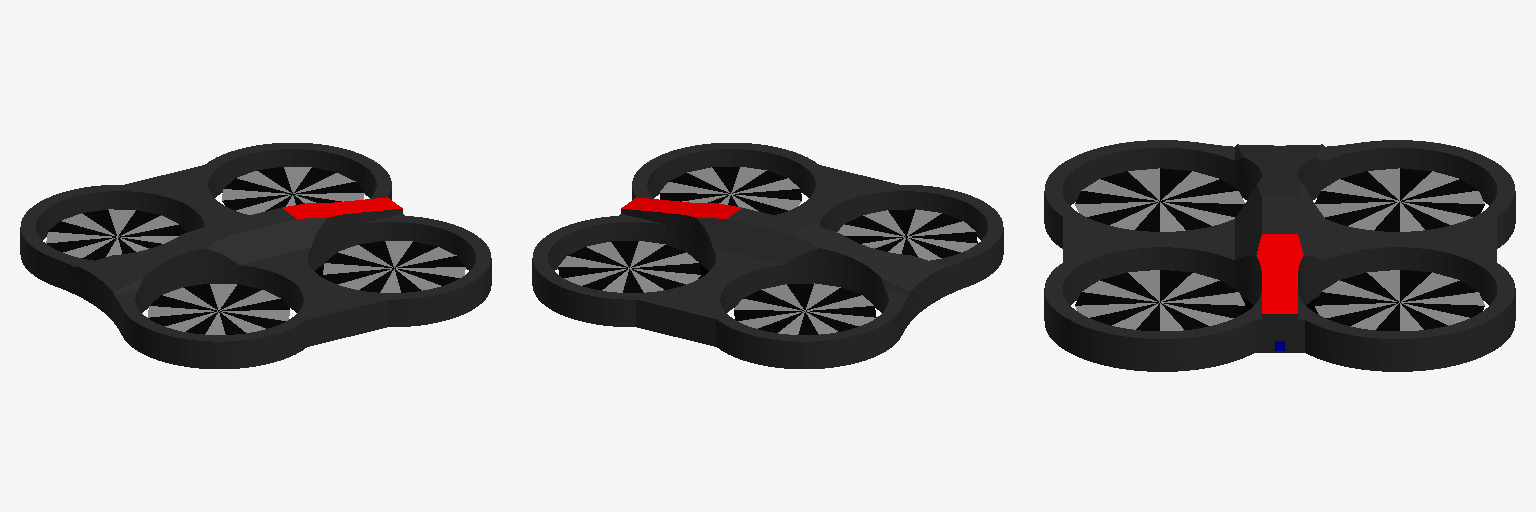
The robot description file, URDF, robot "quadrotor_full":
<?xml version="1.0" ?>
<!-- =================================================================================== -->
<!-- |    This document was autogenerated by xacro from quadrotor.urdf.xacro           | -->
<!-- |    EDITING THIS FILE BY HAND IS NOT RECOMMENDED                                 | -->
<!-- =================================================================================== -->
<robot name="quadrotor_full" xmlns:xacro="http://wiki.ros.org/xacro">
  <!--
  <xacro:include filename="$(find imav_2017)/plugins/urdf/quadrotor_plugins.urdf.xacro" />
  -->
  <!--
  <xacro:property name="pi" value="3.1415926535897931" />
-->
  <link name="base_link">
    <inertial>
      <origin rpy="0 0 0" xyz="0 0 0"/>
      <mass value="1.477"/>
      <origin xyz="0 0 0"/>
      <inertia ixx="0.01152" ixy="0.0" ixz="0.0" iyy="0.01152" iyz="0.0" izz="0.0218"/>
    </inertial>
    <visual>
      <origin rpy="0 0 0" xyz="0 0 0"/>
      <geometry>
        <mesh filename="package://imav_2017/meshes/quadrotor/quadrotor_4.dae"/>
      </geometry>
    </visual>
    <collision>
      <origin rpy="0 0 0" xyz="0 0 0"/>
      <geometry>
        <mesh filename="package://imav_2017/meshes/quadrotor/quadrotor_4.stl"/>
      </geometry>
    </collision>
  </link>
  <!--
    <quadrotor_plugins/>
    -->
  <gazebo>
    <plugin filename="libhector_gazebo_ros_imu.so" name="quadrotor_imu_sim">
      <alwaysOn>true</alwaysOn>
      <updateRate>100.0</updateRate>
      <bodyName>base_link</bodyName>
      <frameId>ardrone_base_link</frameId>
      <topicName>/quadrotor_3/imu</topicName>
      <rpyOffsets>0 0 0</rpyOffsets>
      <!-- deprecated -->
      <gaussianNoise>0</gaussianNoise>
      <!-- deprecated -->
      <accelDrift>0.5 0.5 0.5</accelDrift>
      <accelGaussianNoise>0.35 0.35 0.3</accelGaussianNoise>
      <rateDrift>0.0 0.0 0.0</rateDrift>
      <rateGaussianNoise>0.00 0.00 0.00</rateGaussianNoise>
      <headingDrift>0.0</headingDrift>
      <headingGaussianNoise>0.00</headingGaussianNoise>
    </plugin>
    <plugin filename="libhector_gazebo_ros_baro.so" name="quadrotor_baro_sim">
      <alwaysOn>true</alwaysOn>
      <updateRate>10.0</updateRate>
      <bodyName>base_link</bodyName>
      <topicName>/quadrotor_3/pressure_height</topicName>
      <altimeterTopicName>altimeter</altimeterTopicName>
      <offset>0</offset>
      <drift>0.1</drift>
      <gaussianNoise>0.5</gaussianNoise>
    </plugin>
    <plugin filename="libhector_gazebo_ros_magnetic.so" name="quadrotor_magnetic_sim">
      <alwaysOn>true</alwaysOn>
      <updateRate>10.0</updateRate>
      <bodyName>base_link</bodyName>
      <topicName>/quadrotor_3/magnetic</topicName>
      <offset>0 0 0</offset>
      <drift>0.0 0.0 0.0</drift>
      <gaussianNoise>1.3e-2 1.3e-2 1.3e-2</gaussianNoise>
    </plugin>
    <plugin filename="libhector_gazebo_ros_gps.so" name="quadrotor_gps_sim">
      <alwaysOn>true</alwaysOn>
      <updateRate>4.0</updateRate>
      <bodyName>base_link</bodyName>
      <topicName>/quadrotor_3/fix</topicName>
      <velocityTopicName>/quadrotor_3/fix_velocity</velocityTopicName>
      <drift>5.0 5.0 5.0</drift>
      <gaussianNoise>0.1 0.1 0.1</gaussianNoise>
      <velocityDrift>0 0 0</velocityDrift>
      <velocityGaussianNoise>0.1 0.1 0.1</velocityGaussianNoise>
    </plugin>
    <plugin filename="libgazebo_ros_p3d.so" name="quadrotor_groundtruth_sim">
      <alwaysOn>true</alwaysOn>
      <updateRate>100.0</updateRate>
      <bodyName>base_link</bodyName>
      <topicName>/quadrotor_3/ground_truth/state</topicName>
      <gaussianNoise>0.0</gaussianNoise>
      <frameName>map</frameName>
    </plugin>
  </gazebo>
  <!-- Quadrotor Simple Controller Plugin -->
  <gazebo>
    <!--
      <plugin name="quadrotor_simple_controller" filename="libquadrotor_simple_controller.so">
      -->
    <plugin filename="libgazebo_quadrotor_simple_controller.so" name="quadrotor_simple_controller">
      <alwaysOn>true</alwaysOn>
      <updateRate>0.0</updateRate>
      <bodyName>base_link</bodyName>
      <!--<stateTopic>ground_truth/state</stateTopic>-->
      <!--<imuTopic>ardrone/imu</imuTopic>-->
      <topicName>/cmd_vel</topicName>
      <rollpitchProportionalGain>10.0</rollpitchProportionalGain>
      <rollpitchDifferentialGain>5.0</rollpitchDifferentialGain>
      <rollpitchLimit>0.5</rollpitchLimit>
      <yawProportionalGain>2.0</yawProportionalGain>
      <yawDifferentialGain>1.0</yawDifferentialGain>
      <yawLimit>1.5</yawLimit>
      <velocityXYProportionalGain>5.0</velocityXYProportionalGain>
      <velocityXYDifferentialGain>1.0</velocityXYDifferentialGain>
      <velocityXYLimit>10</velocityXYLimit>
      <velocityZProportionalGain>5.0</velocityZProportionalGain>
      <velocityZDifferentialGain>1.0</velocityZDifferentialGain>
      <velocityZLimit>2.5</velocityZLimit>
      <maxForce>30</maxForce>
      <motionSmallNoise>0.05</motionSmallNoise>
      <motionDriftNoise>0.03</motionDriftNoise>
      <motionDriftNoiseTime>5.0</motionDriftNoiseTime>
    </plugin>
  </gazebo>
  <!-- Sonar height sensor -->
  <joint name="sonar_joint" type="fixed">
    <origin rpy="0 1.57079632679 0" xyz="-0.15 0.0 0.0"/>
    <parent link="base_link"/>
    <child link="sonar_link"/>
  </joint>
  <link name="sonar_link">
    <inertial>
      <mass value="0.001"/>
      <origin rpy="0 0 0" xyz="0 0 0"/>
      <inertia ixx="0.000000017" ixy="0" ixz="0" iyy="0.000000017" iyz="0" izz="0.000000017"/>
    </inertial>
    <visual>
      <origin rpy="0 0 0" xyz="0 0 0"/>
      <geometry>
        <!--<box size="0.01 0.01 0.01" /> -->
        <mesh filename="package://imav_2017/meshes/sonar_sensor/max_sonar_ez4.dae"/>
      </geometry>
    </visual>
    <collision>
      <origin rpy="0 0 0" xyz="0 0 0"/>
      <geometry>
        <box size="0.01 0.01 0.01"/>
      </geometry>
    </collision>
  </link>
  <gazebo reference="sonar_link">
    <sensor name="sonar" type="ray">
      <update_rate>10</update_rate>
      <ray>
        <range>
          <min>0.01</min>
          <max>3.0</max>
          <resolution>0.01</resolution>
        </range>
        <scan>
          <horizontal>
            <samples>3</samples>
            <min_angle>-0.349065850399</min_angle>
            <max_angle>0.349065850399</max_angle>
          </horizontal>
          <vertical>
            <samples>3</samples>
            <min_angle>-0.349065850399</min_angle>
            <max_angle>0.349065850399</max_angle>
          </vertical>
        </scan>
      </ray>
      <plugin filename="libhector_gazebo_ros_sonar.so" name="gazebo_ros_sonar_controller">
        <gaussianNoise>0.000</gaussianNoise>
        <topicName>/quadrotor_3/sonar_height</topicName>
        <frameId>sonar_link</frameId>
      </plugin>
    </sensor>
  </gazebo>
  <joint name="laser0_joint" type="fixed">
    <origin rpy="3.14159265359 0 0" xyz="0.0 0.0 0.08"/>
    <parent link="base_link"/>
    <child link="laser0_frame"/>
  </joint>
  <link name="laser0_frame">
    <inertial>
      <mass value="0.001"/>
      <origin rpy="0 0 0" xyz="0 0 0"/>
      <inertia ixx="0.0001" ixy="0" ixz="0" iyy="0.0001" iyz="0" izz="0.0001"/>
    </inertial>
    <visual>
      <origin rpy="0 0 0" xyz="0 0 0"/>
      <geometry>
        <mesh filename="package://imav_2017/meshes/hokuyo_utm30lx/hokuyo_utm_30lx.dae"/>
      </geometry>
    </visual>
    <collision>
      <origin rpy="0 0 0" xyz="0 0 -0.0115"/>
      <geometry>
        <box size="0.058 0.058 0.087"/>
        <mesh filename="package://hector_sensors_description/meshes/hokuyo_utm30lx/hokuyo_utm_30lx.stl"/>
      </geometry>
    </collision>
  </link>
  <gazebo reference="laser0_frame">
    <sensor name="laser0" type="ray">
      <always_on>true</always_on>
      <update_rate>40</update_rate>
      <pose>0 0 0 0 0 0</pose>
      <visualize>false</visualize>
      <ray>
        <scan>
          <horizontal>
            <samples>1081</samples>
            <resolution>1</resolution>
            <min_angle>2.35619449019</min_angle>
            <max_angle>-2.35619449019</max_angle>
          </horizontal>
        </scan>
        <range>
          <min>0.08</min>
          <max>30.0</max>
          <resolution>0.01</resolution>
        </range>
      </ray>
      <plugin filename="libgazebo_ros_laser.so" name="gazebo_ros_laser0_controller">
        <gaussianNoise>0.005</gaussianNoise>
        <alwaysOn>true</alwaysOn>
        <updateRate>40</updateRate>
        <topicName>/quadrotor_3/scan</topicName>
        <frameName>laser0_frame</frameName>
      </plugin>
    </sensor>
  </gazebo>
  <!-- The following two cameras should be united to one! -->
  <!-- Forward facing camera -->
  <joint name="front_joint" type="fixed">
    <origin rpy="0 0 0" xyz="0.21 0.0 0.01"/>
    <parent link="base_link"/>
    <child link="front_link"/>
  </joint>
  <link name="front_link">
    <inertial>
      <mass value="0.001"/>
      <origin rpy="0 0 0" xyz="0 0 0"/>
      <inertia ixx="0.0001" ixy="0" ixz="0" iyy="0.0001" iyz="0" izz="0.0001"/>
    </inertial>
    <visual>
      <origin rpy="0 0 0" xyz="0 0 0"/>
      <geometry>
        <box size="0.01 0.01 0.01"/>
      </geometry>
      <material name="Blue">
        <color rgba="0.0 0.0 0.8 1"/>
      </material>
    </visual>
    <collision>
      <origin rpy="0 0 0" xyz="0 0 0"/>
      <geometry>
        <box size="0.01 0.01 0.01"/>
      </geometry>
    </collision>
  </link>
  <joint name="front_optical_joint" type="fixed">
    <origin rpy="-1.57079632679 0.0 -1.57079632679" xyz="0 0 0"/>
    <parent link="front_link"/>
    <child link="ardrone_base_frontcam"/>
  </joint>
  <link name="ardrone_base_frontcam">
    <inertial>
      <mass value="0.01"/>
      <origin xyz="0 0 0"/>
      <inertia ixx="0.001" ixy="0.0" ixz="0.0" iyy="0.001" iyz="0.0" izz="0.001"/>
    </inertial>
    <visual>
      <origin rpy="0 0 0" xyz="0 0 0"/>
      <geometry>
        <box size="0.001 0.001 0.001"/>
      </geometry>
    </visual>
    <collision>
      <origin rpy="0 0 0" xyz="0 0 0"/>
      <geometry>
        <box size="0.001 0.001 0.001"/>
      </geometry>
    </collision>
  </link>
  <gazebo reference="front_link">
    <sensor name="front_camera_sensor" type="camera">
      <update_rate>60</update_rate>
      <camera name="head">
        <horizontal_fov>1.41371669412</horizontal_fov>
        <image>
          <width>640</width>
          <height>360</height>
          <format>R8G8B8</format>
        </image>
        <clip>
          0.01
	    
          <near>0.01</near>
          <far>100</far>
        </clip>
      </camera>
      <plugin filename="libgazebo_ros_camera.so" name="front_camera_controller">
        <cameraName>/quadrotor_3/front</cameraName>
        <alwaysOn>true</alwaysOn>
        <updateRate>60</updateRate>
        <imageTopicName>/quadrotor_3/front/image_raw</imageTopicName>
        <cameraInfoTopicName>/quadrotor_3/front/camera_info</cameraInfoTopicName>
        <frameName>ardrone_base_frontcam</frameName>
      </plugin>
    </sensor>
    <!--<turnGravityOff>true</turnGravityOff>-->
    <material>PR2/Blue</material>
  </gazebo>
  <!-- Downward facing camera -->
  <joint name="bottom_joint" type="fixed">
    <origin rpy="0 1.57079632679 0" xyz="0.15 0.0 0.0"/>
    <parent link="base_link"/>
    <child link="bottom_link"/>
  </joint>
  <link name="bottom_link">
    <inertial>
      <mass value="0.001"/>
      <origin rpy="0 0 0" xyz="0 0 0"/>
      <inertia ixx="0.0001" ixy="0" ixz="0" iyy="0.0001" iyz="0" izz="0.0001"/>
    </inertial>
    <visual>
      <origin rpy="0 0 0" xyz="0 0 0"/>
      <geometry>
        <box size="0.01 0.01 0.01"/>
      </geometry>
      <material name="Blue">
        <color rgba="0.0 0.0 0.8 1"/>
      </material>
    </visual>
    <collision>
      <origin rpy="0 0 0" xyz="0 0 0"/>
      <geometry>
        <box size="0.01 0.01 0.01"/>
      </geometry>
    </collision>
  </link>
  <joint name="bottom_optical_joint" type="fixed">
    <origin rpy="-1.57079632679 0.0 -1.57079632679" xyz="0 0 0"/>
    <parent link="bottom_link"/>
    <child link="ardrone_base_bottomcam"/>
  </joint>
  <link name="ardrone_base_bottomcam">
    <inertial>
      <mass value="0.01"/>
      <origin xyz="0 0 0"/>
      <inertia ixx="0.001" ixy="0.0" ixz="0.0" iyy="0.001" iyz="0.0" izz="0.001"/>
    </inertial>
    <visual>
      <origin rpy="0 0 0" xyz="0 0 0"/>
      <geometry>
        <box size="0.001 0.001 0.001"/>
      </geometry>
    </visual>
    <collision>
      <origin rpy="0 0 0" xyz="0 0 0"/>
      <geometry>
        <box size="0.001 0.001 0.001"/>
      </geometry>
    </collision>
  </link>
  <gazebo reference="bottom_link">
    <sensor name="bottom_camera_sensor" type="camera">
      <update_rate>60</update_rate>
      <camera name="head">
        <horizontal_fov>1.41371669412</horizontal_fov>
        <image>
          <width>640</width>
          <height>360</height>
          <format>R8G8B8</format>
        </image>
        <clip>
          0.01
	    
          <near>0.01</near>
          <far>100</far>
        </clip>
      </camera>
      <plugin filename="libgazebo_ros_camera.so" name="bottom_camera_controller">
        <cameraName>/quadrotor_3/bottom</cameraName>
        <alwaysOn>true</alwaysOn>
        <updateRate>60</updateRate>
        <imageTopicName>/quadrotor_3/bottom/image_raw</imageTopicName>
        <cameraInfoTopicName>/quadrotor_3/bottom/camera_info</cameraInfoTopicName>
        <frameName>ardrone_base_bottomcam</frameName>
      </plugin>
    </sensor>
    <!--<turnGravityOff>true</turnGravityOff>-->
    <material>PR2/Blue</material>
  </gazebo>
</robot>

--- Render facts (derived) ---
The picture shows the robot from 3 angles, left to right: view 1: azimuth 30°, elevation 25°; view 2: azimuth 150°, elevation 25°; view 3: azimuth 270°, elevation 25°; orthographic projection.
Model quadrotor_full with 7 links and 6 joints (6 fixed), rooted at base_link, posed every joint at zero.
Links seen in each view (by area): view 1: base_link; view 2: base_link; view 3: base_link.
Boxes of the visible links, box(x1,y1,x2,y2) form: base_link: box(20, 143, 491, 368); base_link: box(532, 143, 1003, 368); base_link: box(1044, 140, 1515, 371).
Size in the robot's own frame: 0.52 by 0.5199 by 0.11 metres.
2 mesh visuals loaded from 3 distinct referenced files (2 Collada DAE); not drawn: 1 (reference not matched to a file when rendering).
